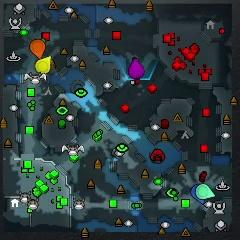p1: (191, 185, 205, 205)
p2: (196, 184, 215, 199)
p3: (128, 58, 144, 80)
p4: (35, 56, 51, 75)
p5: (30, 40, 46, 59)
